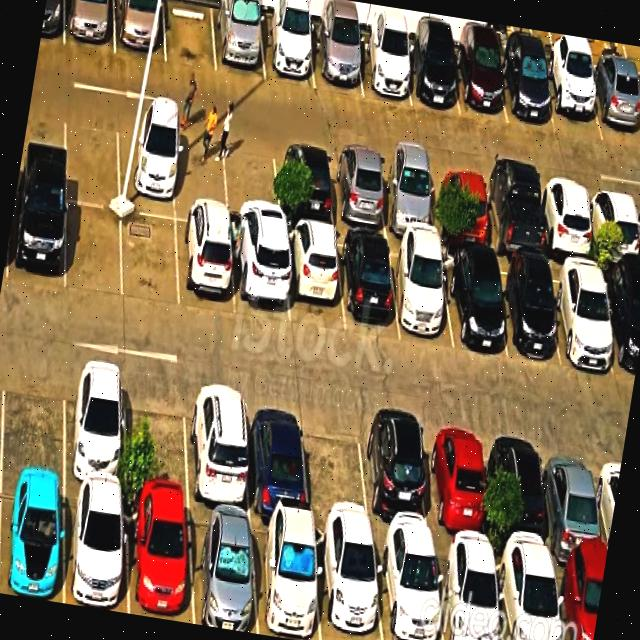empty: (303, 403, 371, 533), (126, 371, 189, 504), (2, 353, 64, 481), (223, 134, 281, 237), (122, 212, 179, 310), (174, 127, 229, 227), (65, 108, 119, 208), (66, 202, 122, 298), (164, 0, 216, 72)
occupied: (359, 411, 433, 542), (187, 506, 258, 634), (422, 419, 489, 552), (125, 497, 193, 624), (251, 517, 320, 640), (542, 436, 606, 566), (187, 382, 250, 514), (245, 392, 309, 521), (64, 360, 126, 493), (0, 477, 65, 603), (65, 486, 128, 614), (492, 428, 553, 559), (314, 526, 383, 640), (547, 262, 616, 372), (491, 258, 560, 361), (440, 252, 507, 358), (374, 538, 443, 640), (389, 241, 454, 349), (434, 544, 503, 640), (337, 233, 400, 337), (284, 225, 344, 332), (494, 552, 562, 640), (8, 188, 66, 291), (117, 117, 175, 219), (176, 221, 235, 316), (481, 173, 545, 260), (230, 232, 289, 325), (274, 143, 335, 228), (430, 165, 490, 250), (377, 157, 437, 239), (329, 150, 387, 233), (542, 61, 602, 141), (538, 180, 595, 262), (499, 51, 555, 132), (600, 269, 640, 381), (585, 66, 640, 147), (587, 186, 640, 268), (453, 44, 507, 123), (403, 41, 460, 115), (259, 14, 315, 89), (553, 560, 605, 640), (355, 33, 411, 106), (212, 5, 265, 81), (311, 26, 362, 95), (114, 0, 166, 62), (64, 0, 115, 53)
